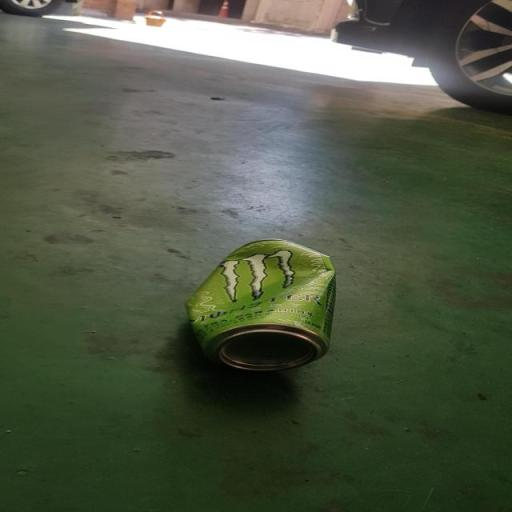metal: (85, 194, 375, 392)
